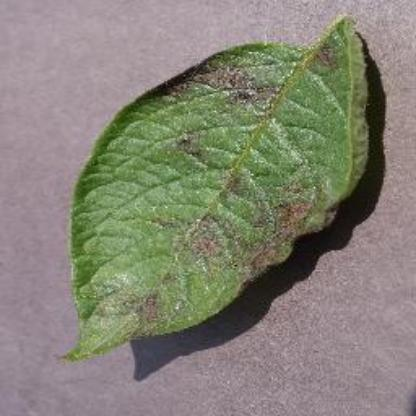Late-Blight: (54, 14, 380, 366)
